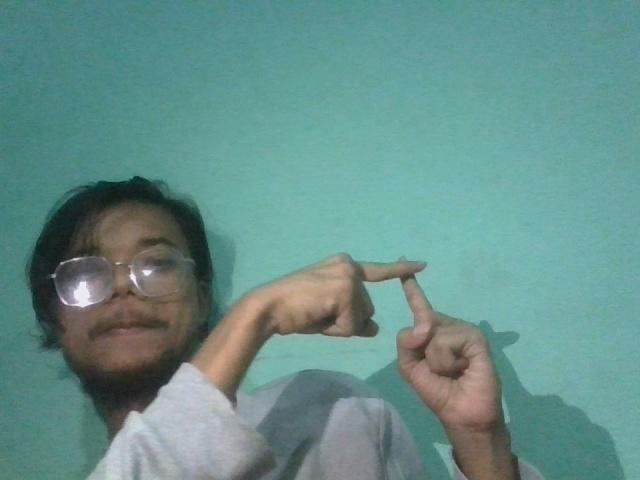When: (242, 235, 525, 447)
